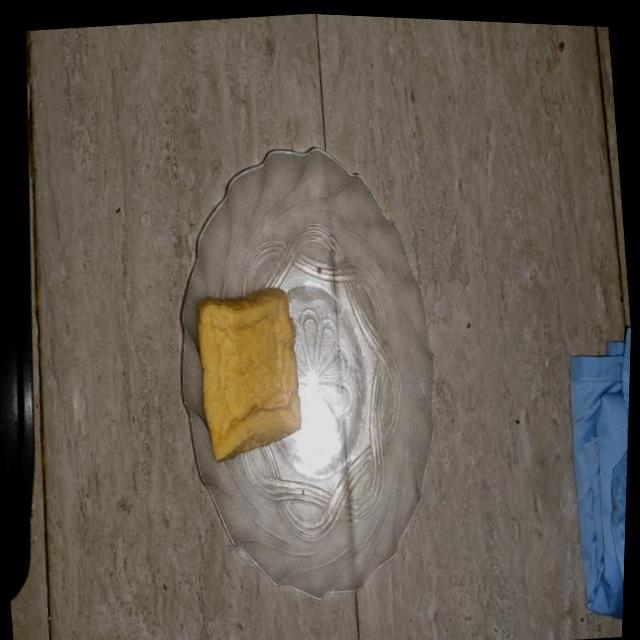tahu_goreng: (198, 288, 300, 460)
